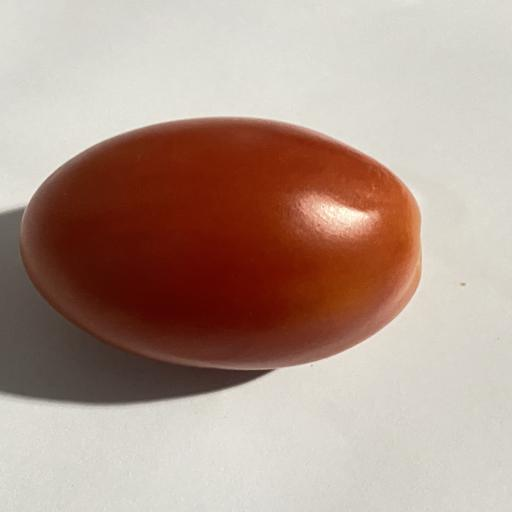ripe: (20, 117, 421, 370)
